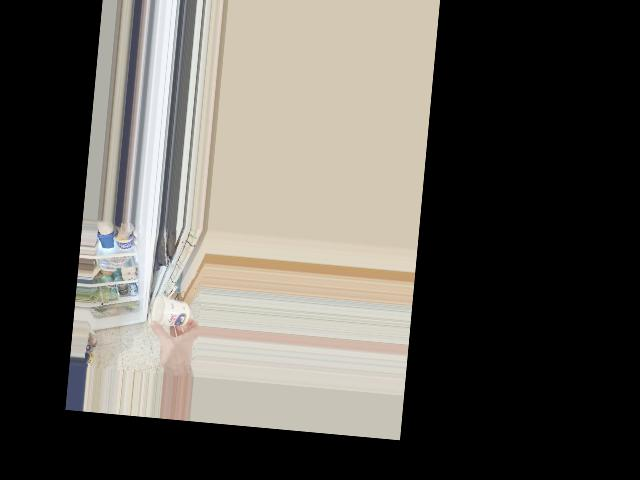cotage: (151, 294, 191, 329)
